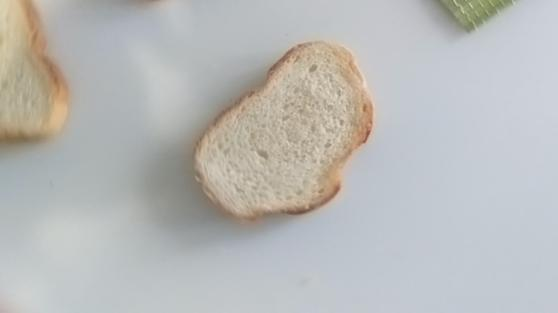white_bread: (186, 38, 375, 217), (1, 1, 71, 140)
